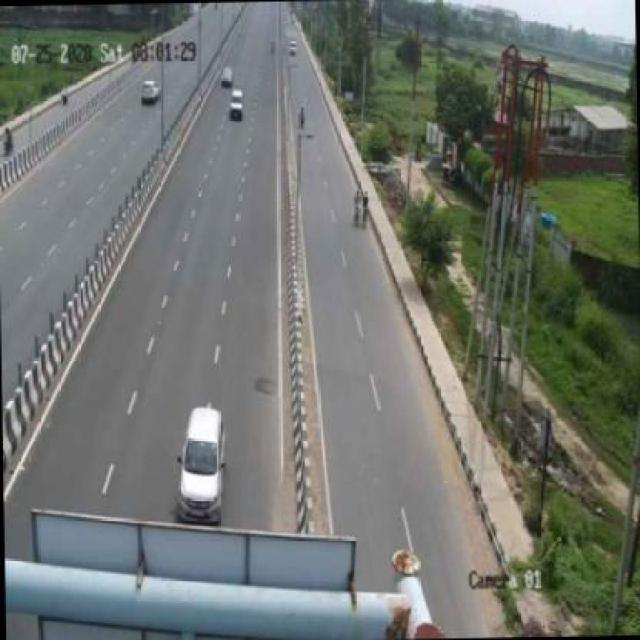car: (168, 402, 237, 524), (135, 76, 163, 106), (228, 85, 248, 122), (218, 60, 236, 89)
